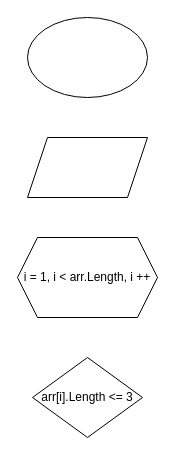
This 175x455 diagram has some shape labels left out. Here are the shapes that lost their labels. From the top down, the centre of each, then its label:
At (87,57): "Start".
At (87,167): "input arr[]".
